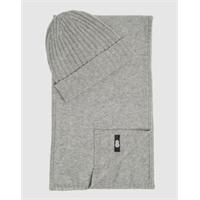hat: (44, 10, 138, 101)
